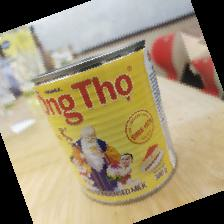Ong_tho: (30, 39, 180, 208)
